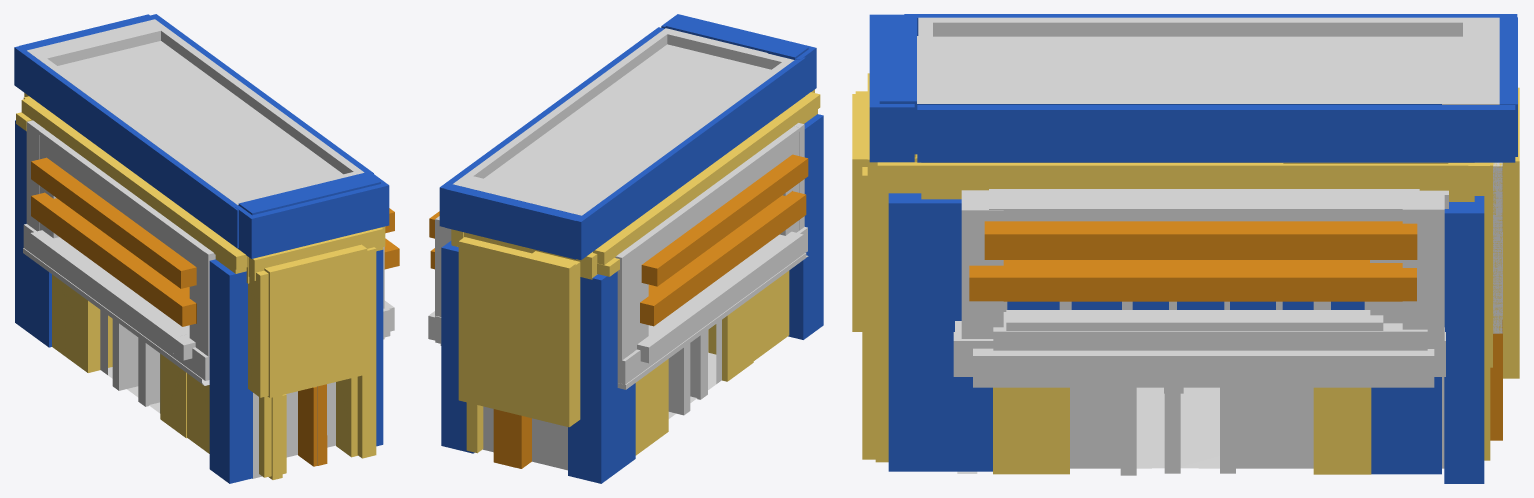
Rendered from building9.glb.
3 renders of one model, left to right at view 1: azimuth 30°, elevation 25°; view 2: azimuth 150°, elevation 25°; view 3: azimuth 270°, elevation 25°, orthographic. The views are drawn at different scales.
Parts seen in each view (by area): view 1: Cube; view 2: Cube; view 3: Cube.
Boxes of the visible parts, x1,y1,x2,y2 form: Cube: (14, 14, 399, 483); Cube: (428, 14, 823, 483); Cube: (852, 14, 1519, 483).
Size of the model in its own units: 422 by 504 by 819.
